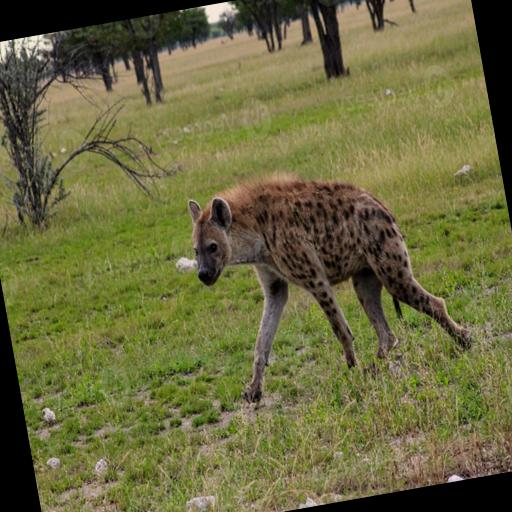hyenas: (136, 126, 466, 464)
